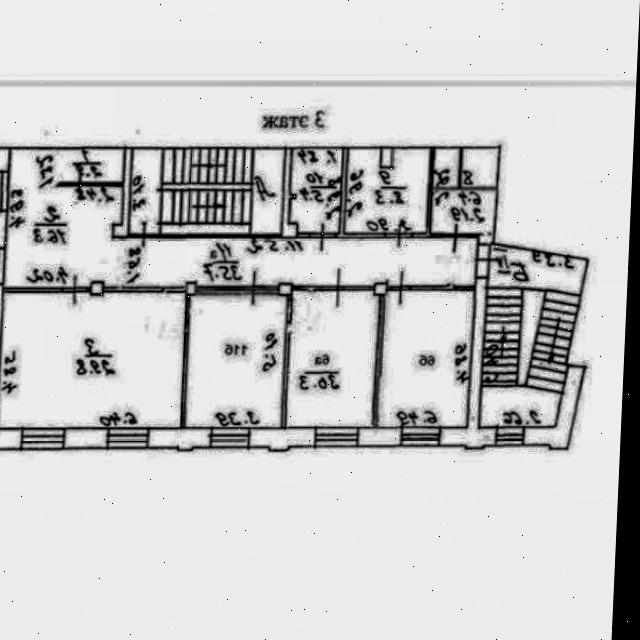room: (5, 148, 477, 288), (458, 244, 587, 440), (0, 292, 187, 427), (186, 288, 287, 432), (378, 285, 474, 430), (128, 148, 284, 233), (286, 286, 378, 430), (345, 144, 430, 235), (289, 146, 342, 234), (431, 190, 496, 231), (462, 146, 499, 187), (435, 147, 460, 187)
